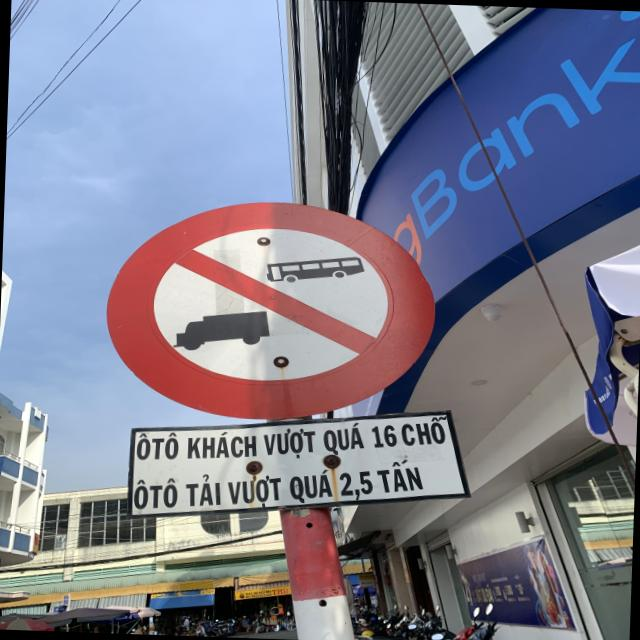Cam_XeTai_XeKhach: (100, 192, 440, 426)
